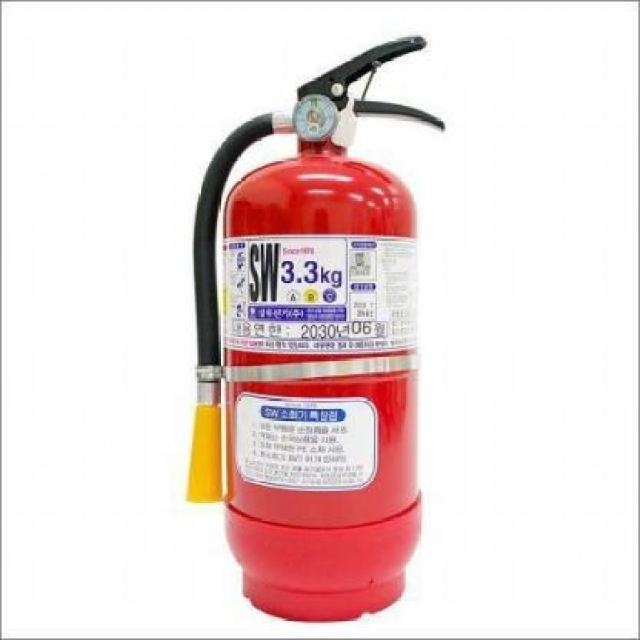fire extinguisher: (183, 35, 445, 622)
